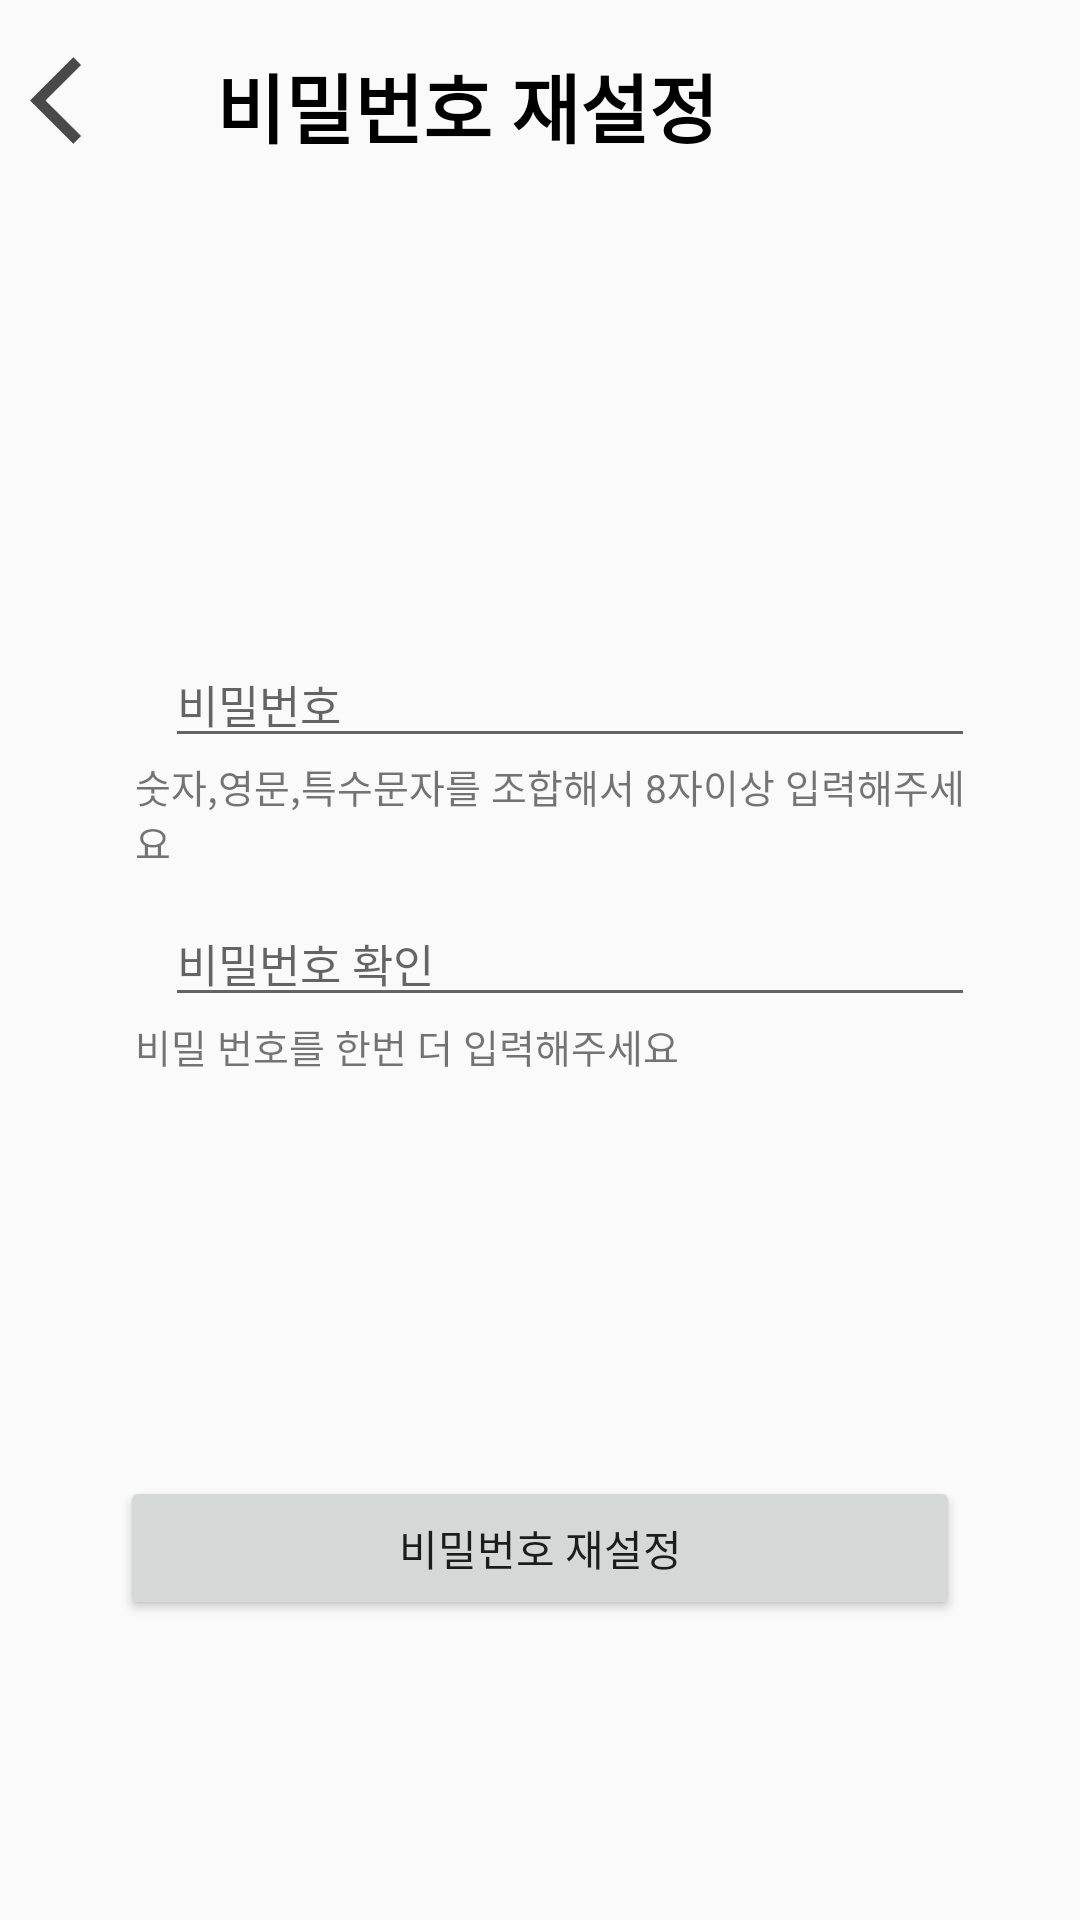

Point at icon controls on the screen. Image size 1080w x 1920h, points as (x=x, y=y).
arrow back: (x=55, y=100)
